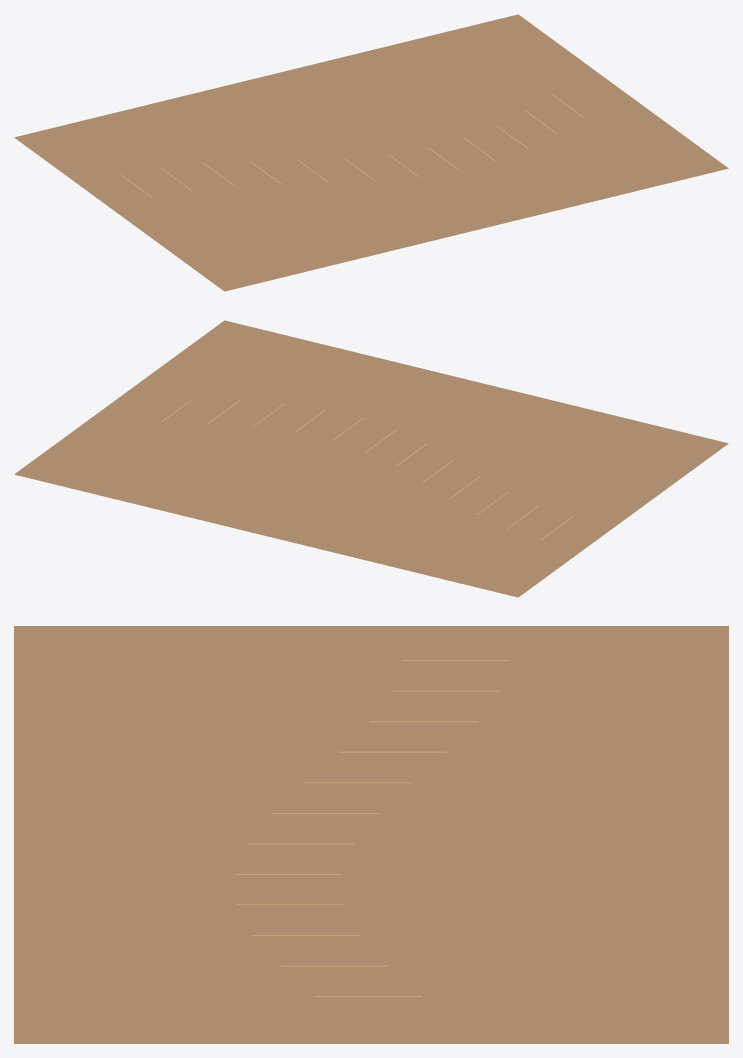
The model's file is 282_L120_L17_LayerReference.glb.
3 views of the same model, one above another, from view 1: azimuth 30°, elevation 25°; view 2: azimuth 150°, elevation 25°; view 3: azimuth 270°, elevation 25° (orthographic). The views are drawn at different scales.
Parts seen in each view (by area): view 1: 0000__PSMAT__copper_dark; view 2: 0000__PSMAT__copper_dark; view 3: 0000__PSMAT__copper_dark.
Part boxes in pixels (x1,y1,x2,y2): 0000__PSMAT__copper_dark: (14, 14, 728, 291); 0000__PSMAT__copper_dark: (14, 320, 728, 597); 0000__PSMAT__copper_dark: (14, 626, 728, 1043).
Size of the model in its own units: 0.506 by 0.000118 by 0.366.
